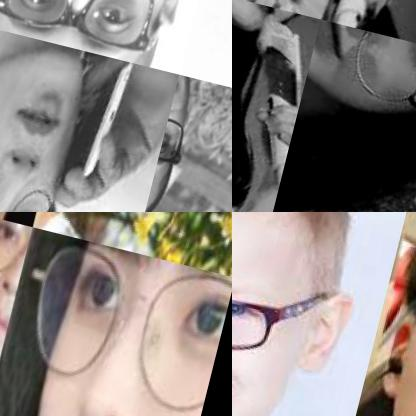Glasses: (0, 228, 231, 415), (0, 212, 32, 304)
glasses: (300, 19, 415, 151), (0, 0, 186, 70), (232, 272, 295, 373), (154, 93, 216, 188), (0, 143, 76, 211)
hands: (322, 0, 415, 36)
